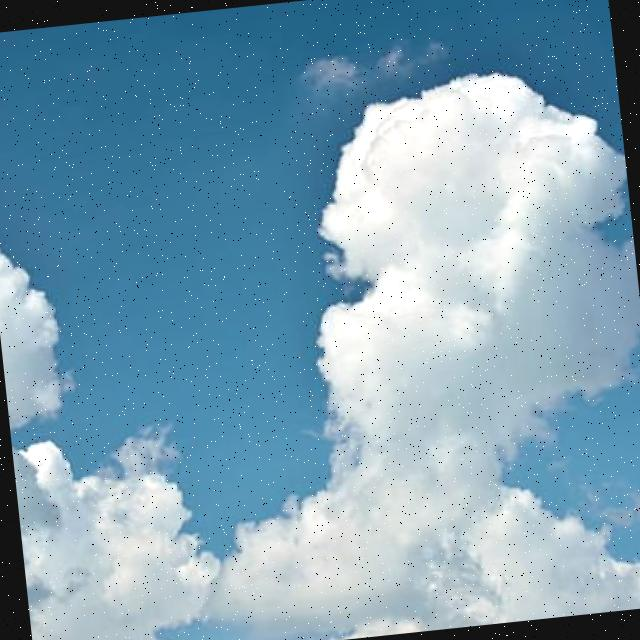Cu: (1, 42, 640, 640)
